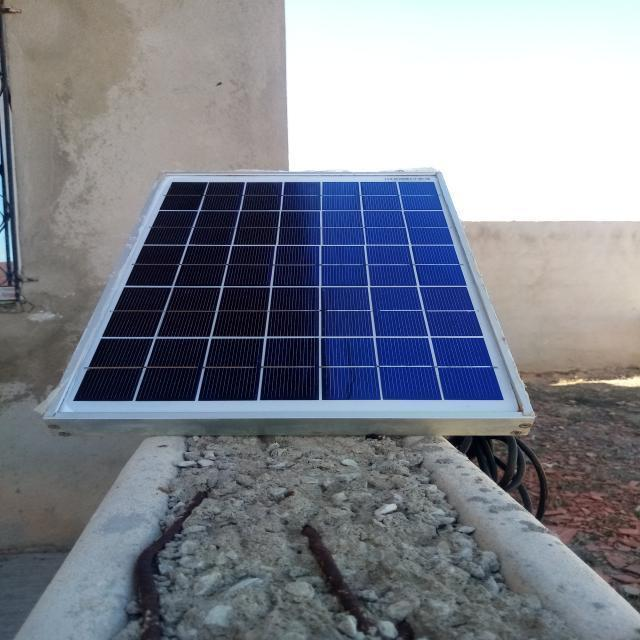Normal Solar Panel: (50, 172, 531, 416)
